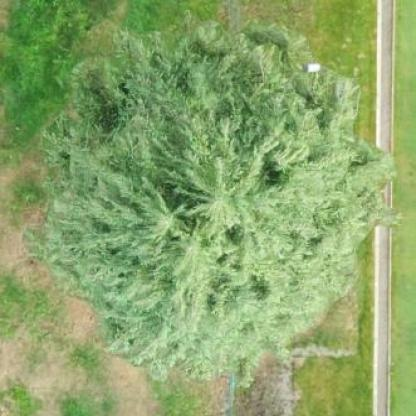Coniferous Tree: (30, 22, 395, 374)
